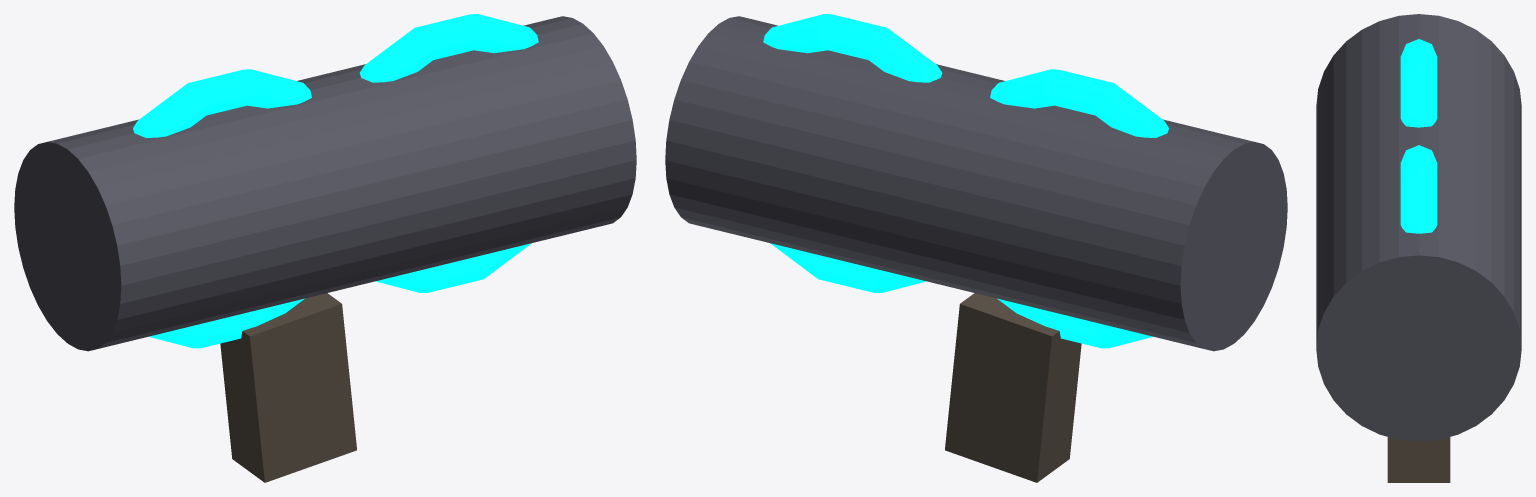
File: canon_plasma.glb
3 views of the same model, side by side, from view 1: azimuth 30°, elevation 25°; view 2: azimuth 150°, elevation 25°; view 3: azimuth 270°, elevation 25° (orthographic). The views are drawn at different scales.
Parts seen in each view (by area): view 1: CanonPlasma; view 2: CanonPlasma; view 3: CanonPlasma.
Boxes of the visible parts, x1,y1,x2,y2 form: CanonPlasma: (14, 14, 636, 482); CanonPlasma: (665, 14, 1287, 482); CanonPlasma: (1316, 14, 1521, 482).
Bounding box in the file's own units: 0.5 × 0.3717 × 0.18.
